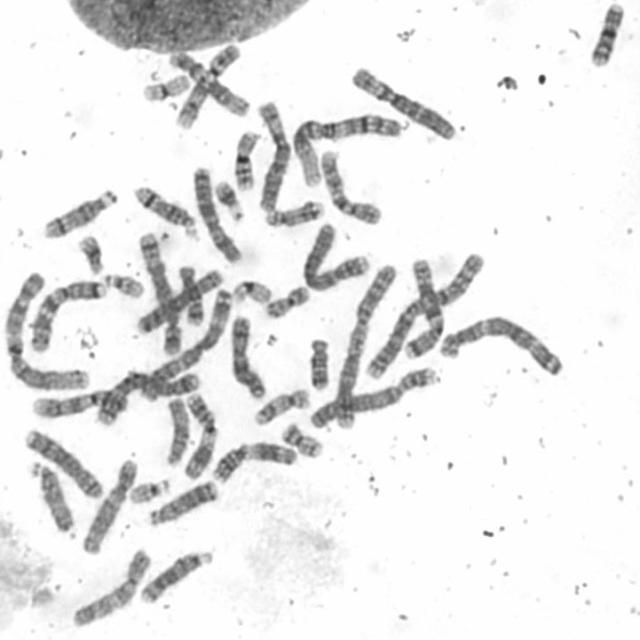A1: (1, 270, 93, 392), (288, 111, 405, 190)
A2: (359, 249, 486, 383), (330, 261, 400, 431)
A3: (135, 281, 234, 403), (435, 310, 565, 379)
B4: (306, 363, 440, 431), (299, 218, 373, 292)
B5: (91, 366, 203, 427), (135, 227, 184, 357)
C10: (66, 544, 154, 629), (317, 145, 383, 226)
C11: (209, 437, 298, 485), (180, 389, 218, 480)
C12: (166, 46, 249, 120), (79, 456, 139, 554)
C6: (347, 62, 458, 141), (252, 97, 292, 215)
C7: (26, 276, 110, 354), (401, 253, 446, 360)
C8: (20, 425, 105, 500), (134, 270, 227, 337)
C9: (175, 41, 241, 132), (28, 386, 128, 424)
D13: (136, 547, 216, 605), (145, 476, 219, 528)
D14: (38, 185, 119, 241), (130, 182, 198, 237)
D15: (26, 458, 76, 536), (162, 394, 191, 466)
E16: (587, 0, 626, 69), (228, 126, 265, 193)
E17: (250, 385, 312, 428), (261, 195, 325, 230)
E18: (175, 260, 204, 327), (304, 333, 333, 393)
F19: (137, 70, 191, 103), (229, 276, 273, 307)
F20: (259, 282, 313, 321), (279, 419, 324, 460)
G21: (212, 176, 246, 222), (75, 231, 106, 276)
G22: (127, 474, 172, 505), (100, 270, 146, 299)
X: (191, 163, 243, 264), (226, 312, 268, 400)
